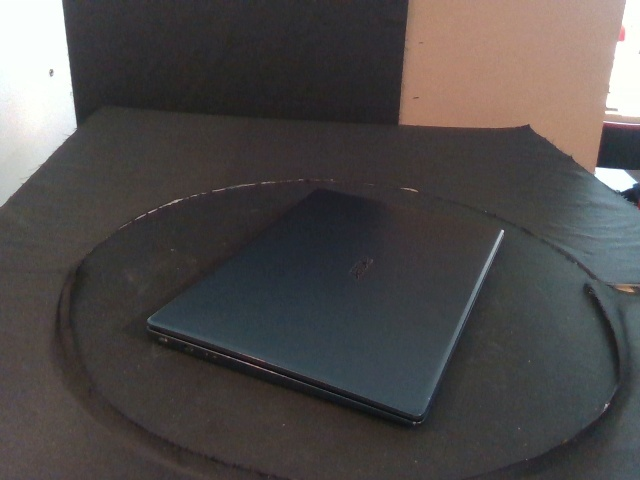laptop: (146, 186, 505, 430)
